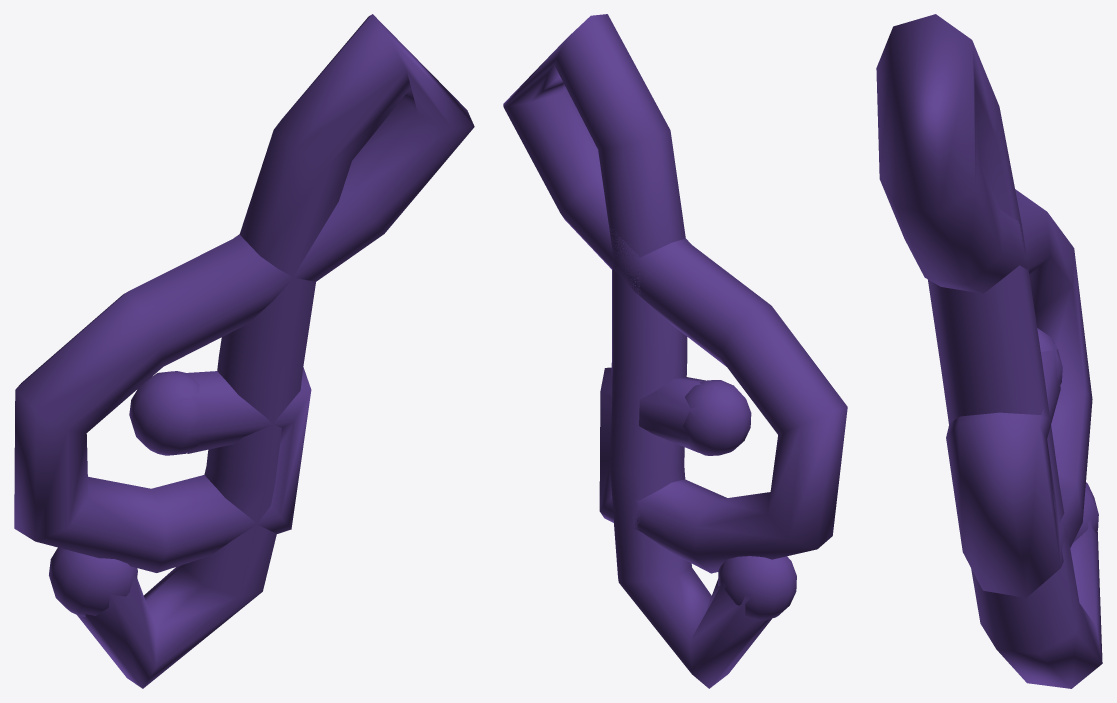
The model's file is treble.glb.
3 renders of one model, left to right at view 1: azimuth 30°, elevation 25°; view 2: azimuth 150°, elevation 25°; view 3: azimuth 270°, elevation 25°, orthographic. The views are drawn at different scales.
Parts seen in each view (by area): view 1: treble; view 2: treble; view 3: treble.
Part boxes in pixels (left/top/right/bottom): treble: left=14, top=14, right=474, bottom=688; treble: left=503, top=14, right=847, bottom=688; treble: left=876, top=14, right=1102, bottom=688.
Bounding box in the file's own units: 0.5847 × 0.9006 × 0.2353.
